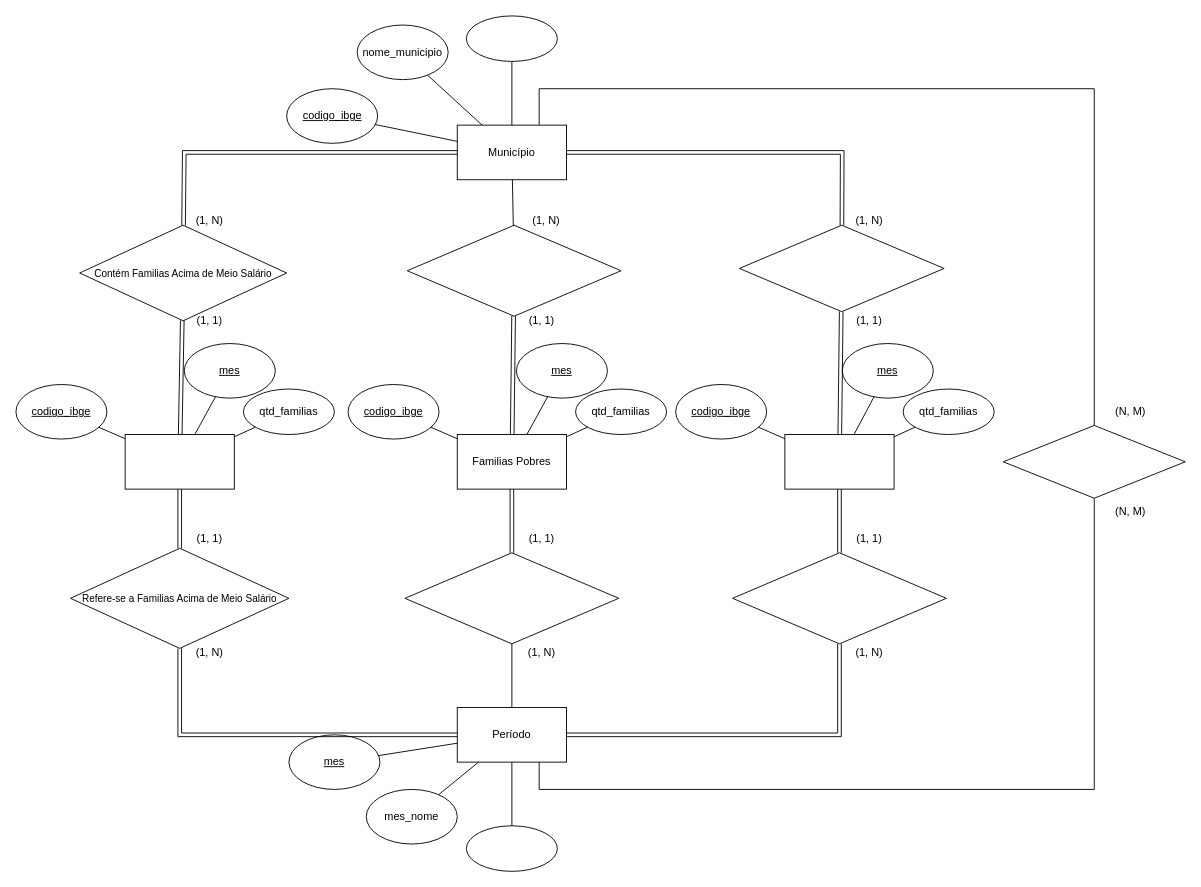
Some shapes in this 1201 by 887 pixel diagram are drawn without their labels. Each missing label, with the centre of its shape:
Contém Familias Baixa Renda: point 841,268
Contém Familias Pobres: point 513,270
descricao: point 511,848
Familias Acima de Meio Salário: point 179,461
Familias Baixa Renda: point 839,461
Possui registro em: point 1093,461
Refere-se a Familias Baixa Renda: point 839,598
Refere-se a Familias Pobres: point 511,598
uf: point 511,38
